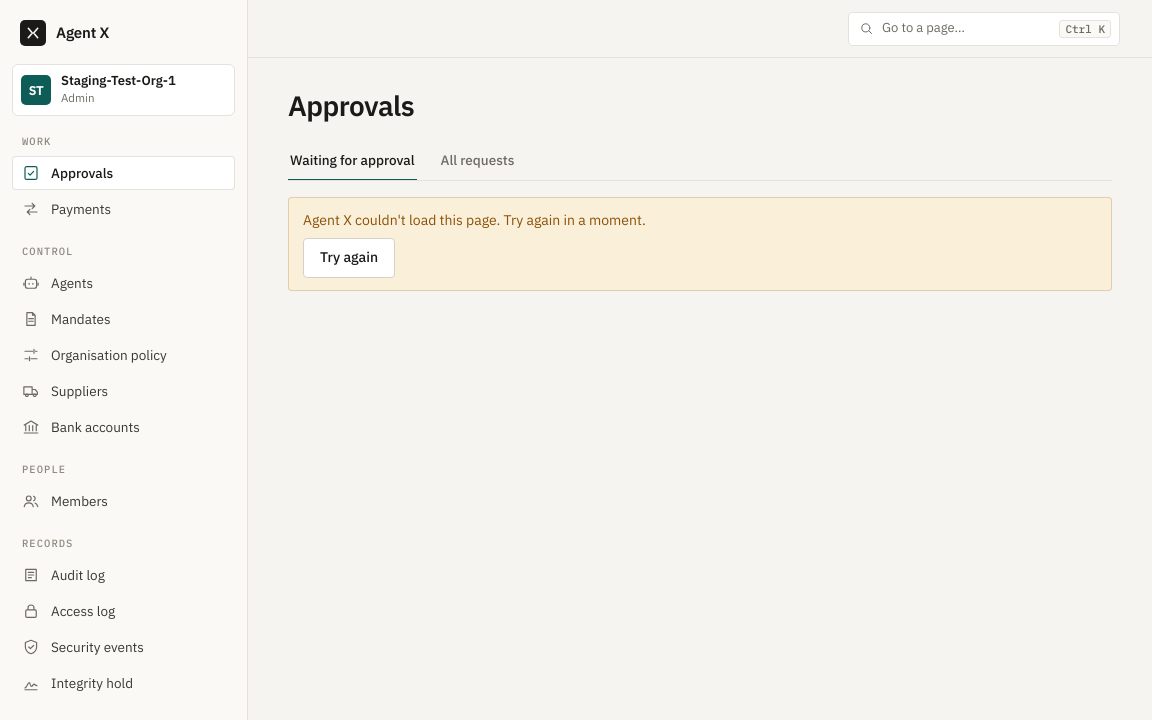
Scenario: the payments list (6C1) › reaches the list from the Payments tab
The width and height of the screenshot is (1152, 720).
Click the link "Payments".
click(67, 209)  # box x1=22 y1=200 x2=111 y2=218
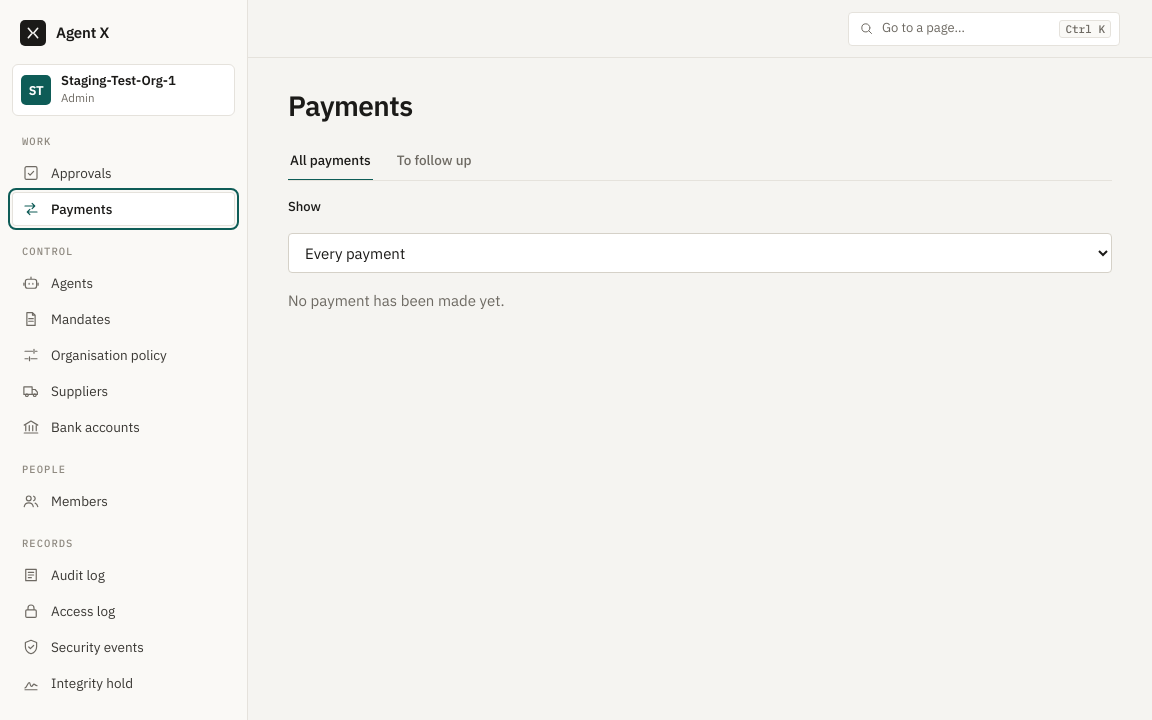
Expected: the heading "Payments" is shown, x1=288 y1=87 x2=413 y2=124
